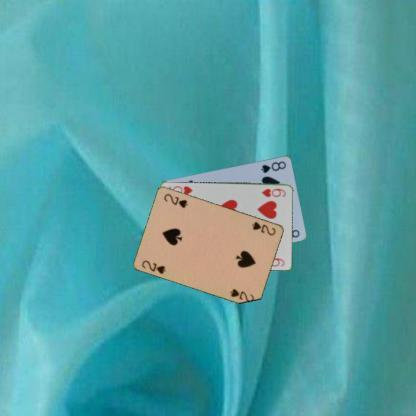2s: (248, 219, 278, 237), (139, 258, 167, 276)
6h: (260, 186, 287, 198)
8s: (258, 158, 288, 174)
